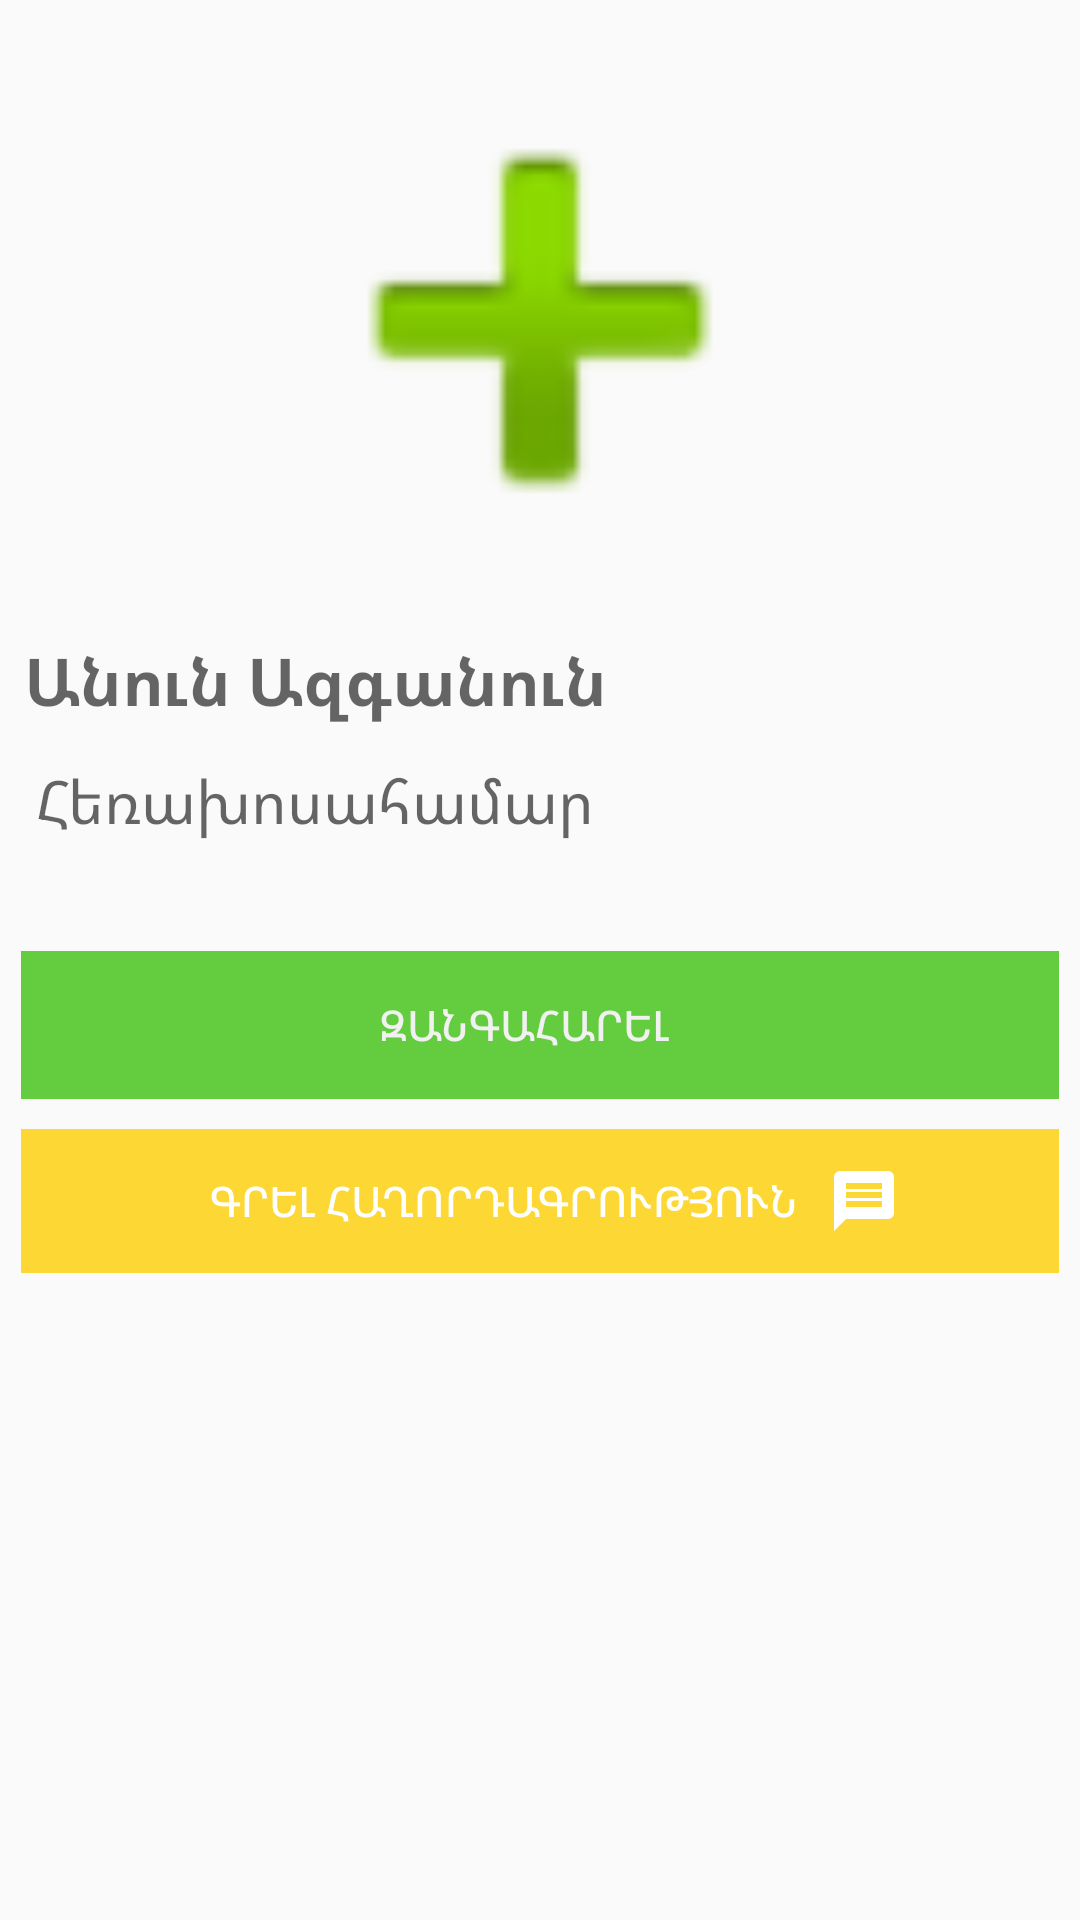

Icon bounding boxes for this 1080w x 1920h phone screenshot, format box(x1, y1, x2, y2):
add: box(369, 150, 711, 491)
message: box(834, 1171, 894, 1231)
